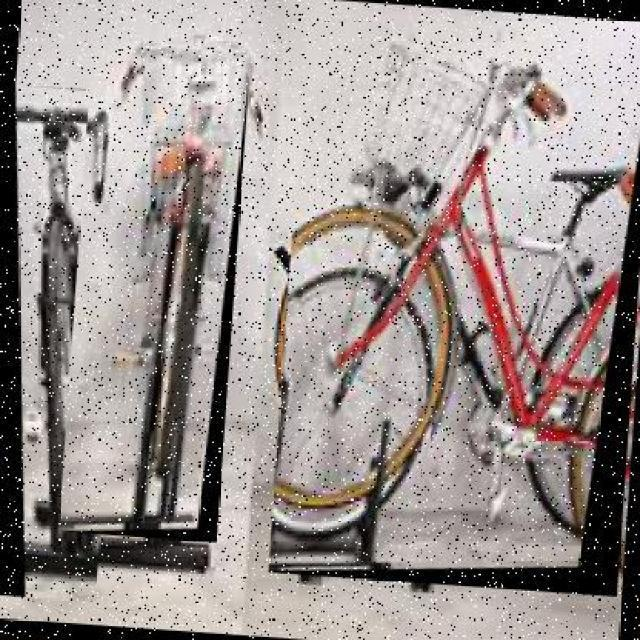bicycle: (269, 7, 640, 601), (60, 43, 254, 546), (1, 86, 135, 606)
